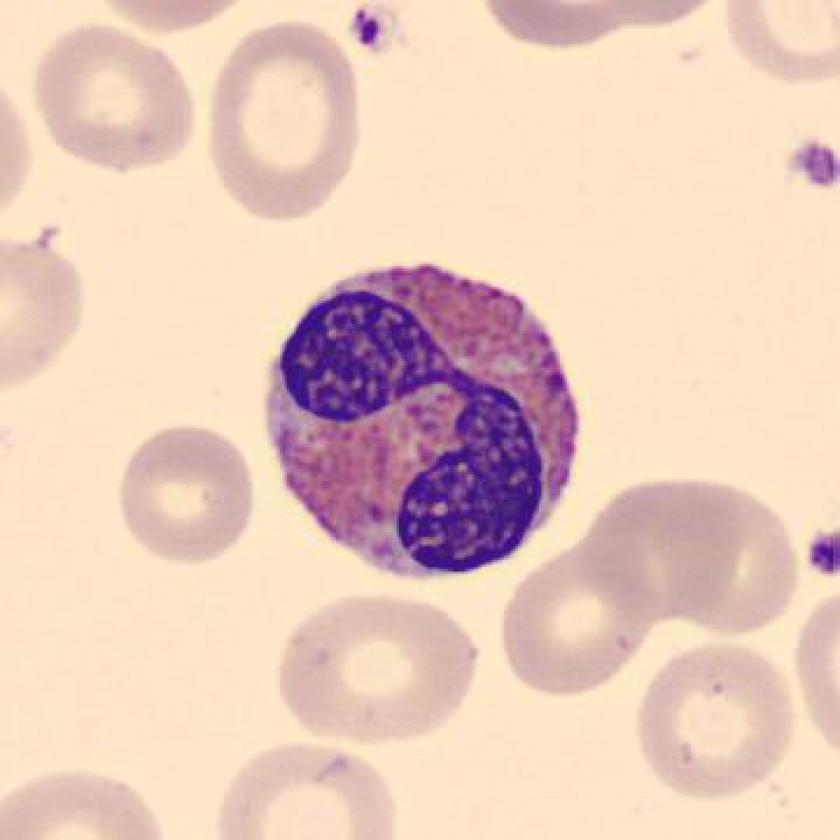eosinophil: (251, 247, 598, 601)
